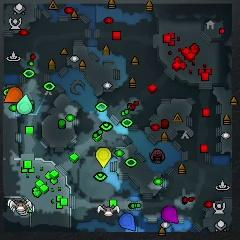p1: (119, 213, 136, 231)
p2: (16, 94, 32, 115)
p3: (162, 205, 179, 223)
p4: (96, 147, 111, 168)
p5: (4, 87, 24, 104)
